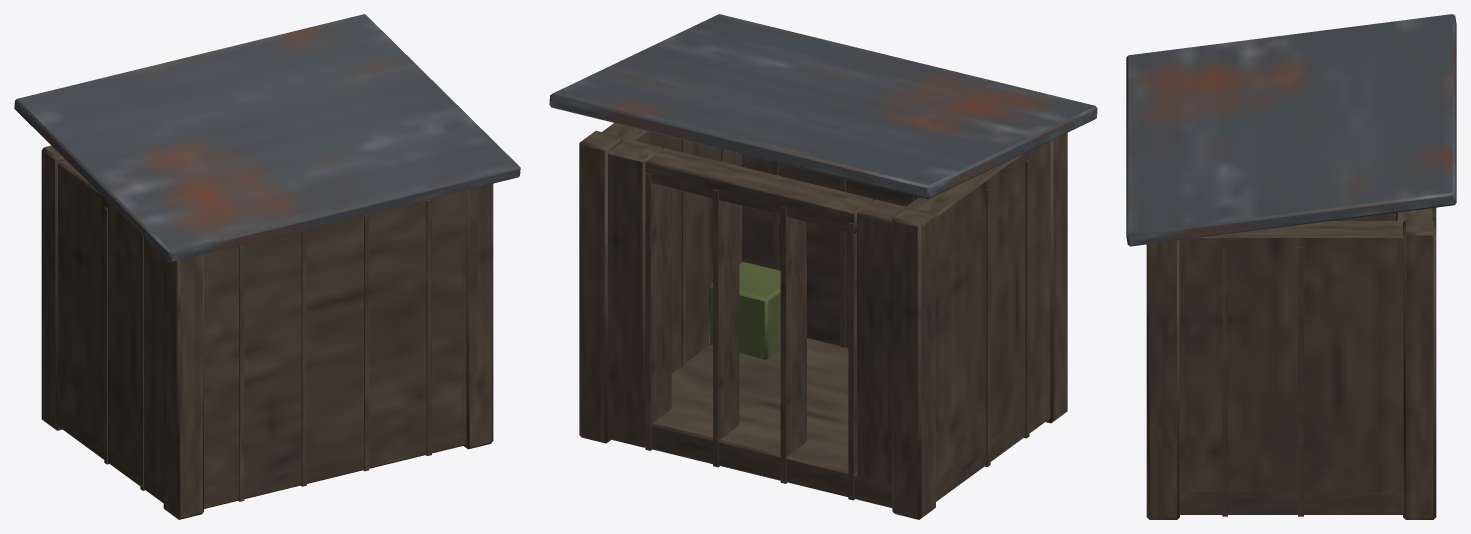
Rendered from SM_POI_Shed.fbx.
3 renders of one model, left to right at view 1: azimuth 30°, elevation 25°; view 2: azimuth 150°, elevation 25°; view 3: azimuth 270°, elevation 25°, orthographic. The views are drawn at different scales.
Visible parts, largest first — view 1: SM_POI_Shed; view 2: SM_POI_Shed; view 3: SM_POI_Shed.
Part boxes in pixels (x1,y1,x2,y2): SM_POI_Shed: [14, 14, 520, 519]; SM_POI_Shed: [549, 14, 1097, 519]; SM_POI_Shed: [1126, 14, 1456, 519].
Size of the model in its own units: 9 by 7.83 by 6.96.
1 material, 1 textured.
